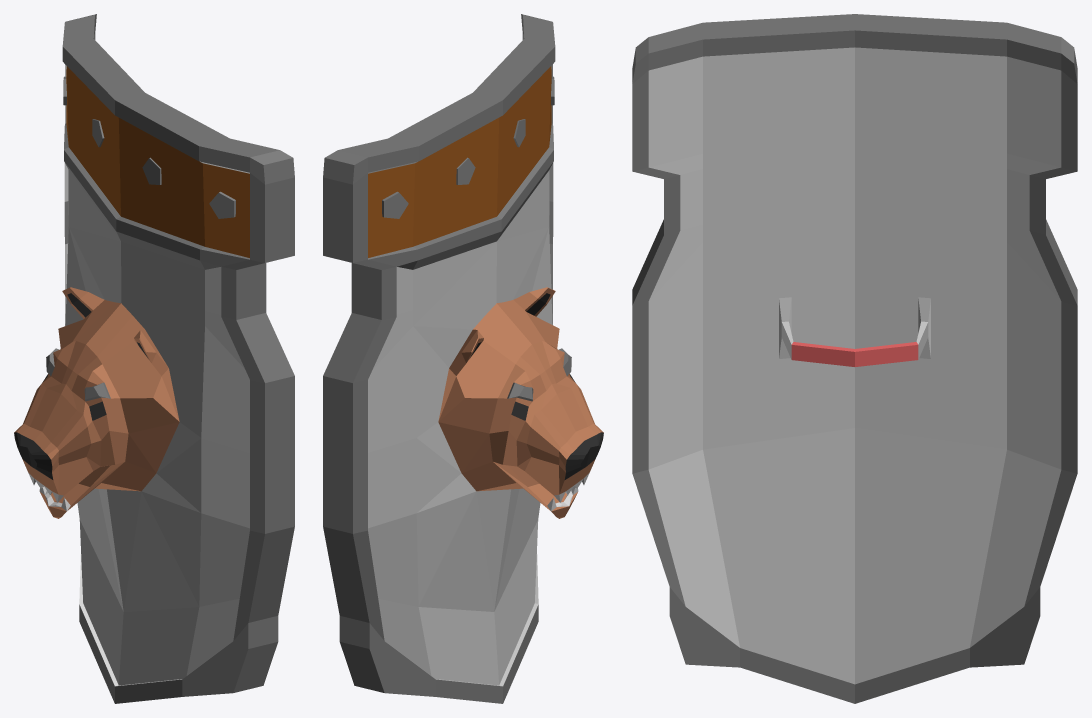
File: ShieldBear.fbx
3 views of the same model, side by side, from view 1: azimuth 30°, elevation 25°; view 2: azimuth 150°, elevation 25°; view 3: azimuth 270°, elevation 25° (orthographic). The views are drawn at different scales.
Parts seen in each view (by area): view 1: ShieldBear; view 2: ShieldBear; view 3: ShieldBear.
Boxes of the visible parts, bbox=[...] form: ShieldBear: bbox=[14, 14, 294, 703]; ShieldBear: bbox=[323, 14, 603, 703]; ShieldBear: bbox=[632, 14, 1077, 703].
Bounding box in the file's own units: 52.42 × 164 × 97.95.
Materials: 1 (1 with a texture image).
